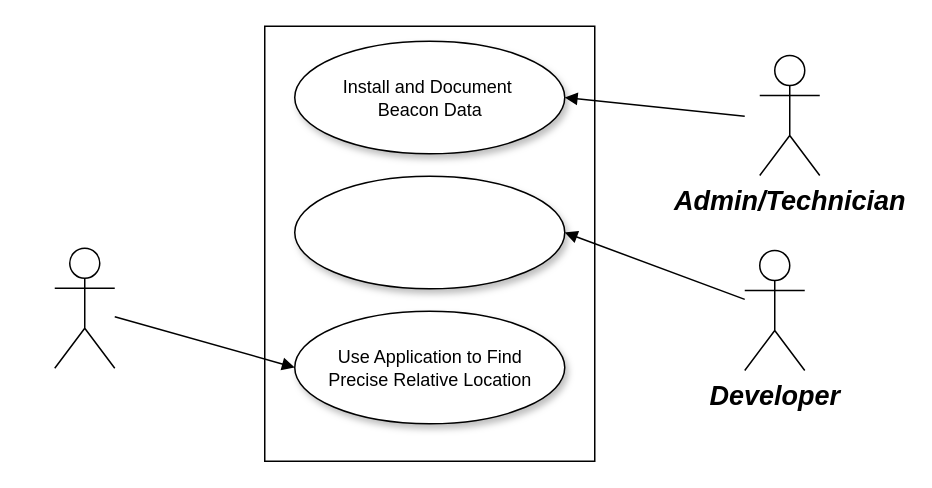
This 932x488 diagram has some shape labels left out. Each missing label, with the centre of its shape:
"End User" goes at pixel 84 307.
"Use Framework for Precise Relative Location" goes at pixel 430 234.
